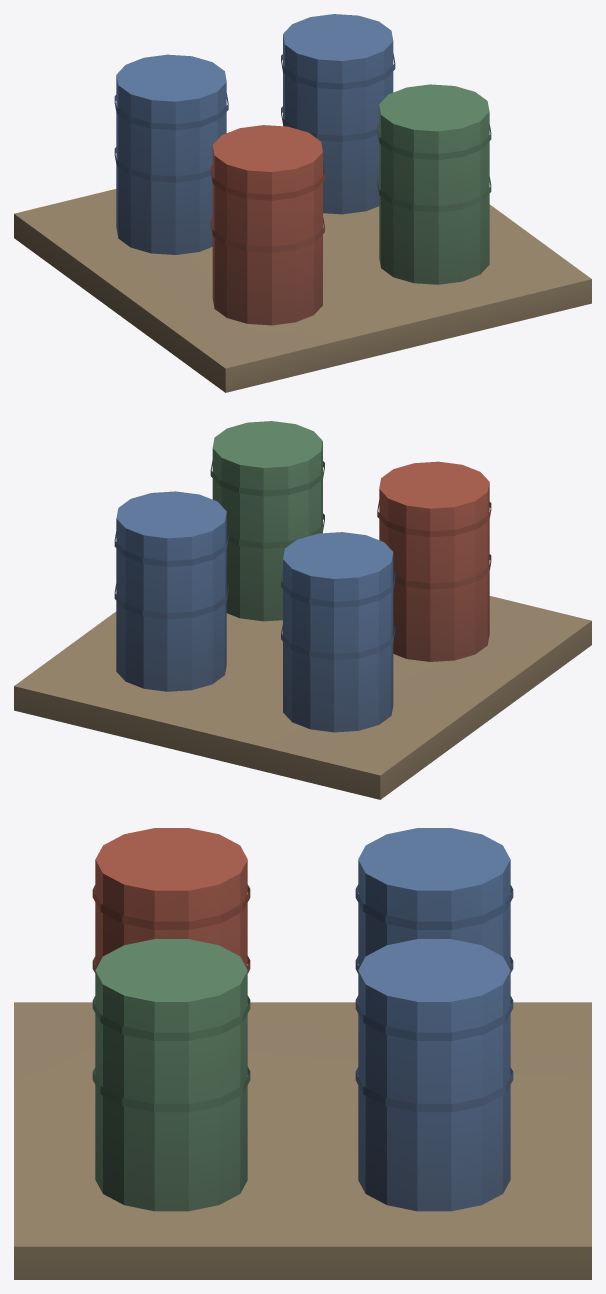
Rendered from drums.glb.
3 renders of one model, top to bottom at view 1: azimuth 30°, elevation 25°; view 2: azimuth 150°, elevation 25°; view 3: azimuth 270°, elevation 25°, orthographic. The views are drawn at different scales.
Parts seen in each view (by area): view 1: drums; view 2: drums; view 3: drums.
Part boxes in pixels (x1,y1,x2,y2): drums: [14, 14, 591, 392]; drums: [14, 421, 591, 799]; drums: [14, 828, 591, 1279].
Bounding box in the file's own units: 2.2 × 1.02 × 2.2.
